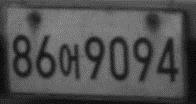0: (107, 36, 130, 82)
4: (156, 37, 180, 84)
6: (34, 33, 57, 79)
8: (10, 35, 34, 79)
9: (131, 36, 153, 84), (82, 36, 105, 80)
어: (57, 42, 82, 81)
